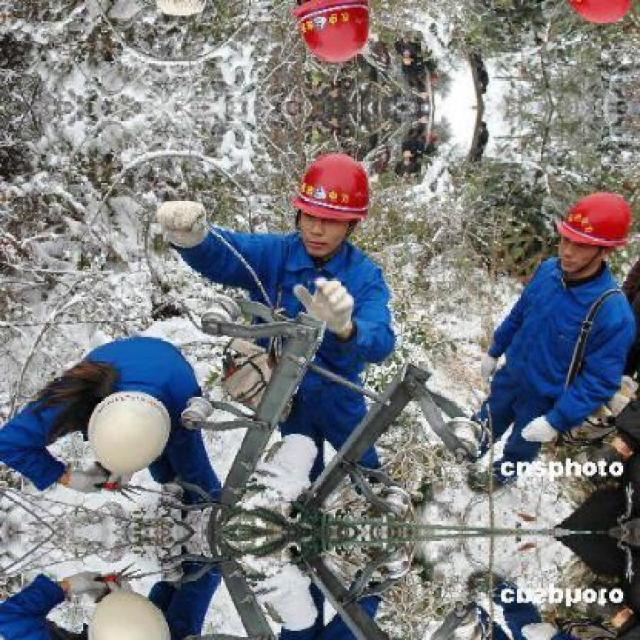helmet: (80, 389, 171, 486), (288, 140, 380, 228), (558, 175, 631, 254)
